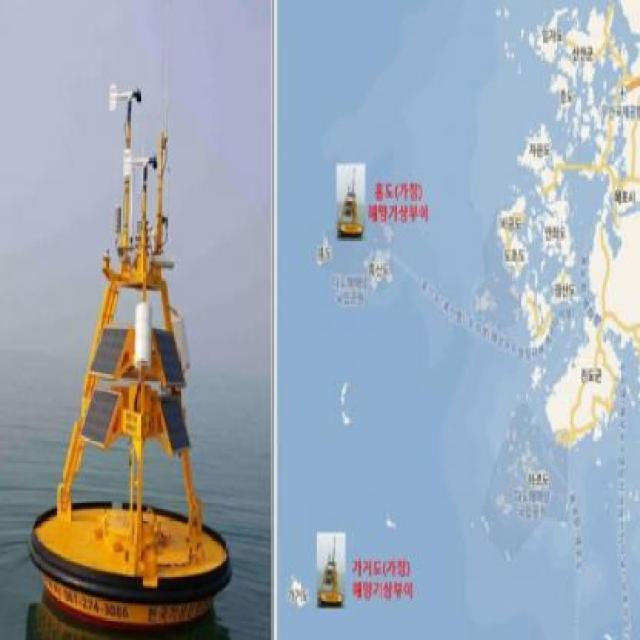buoy: (27, 75, 238, 639)
